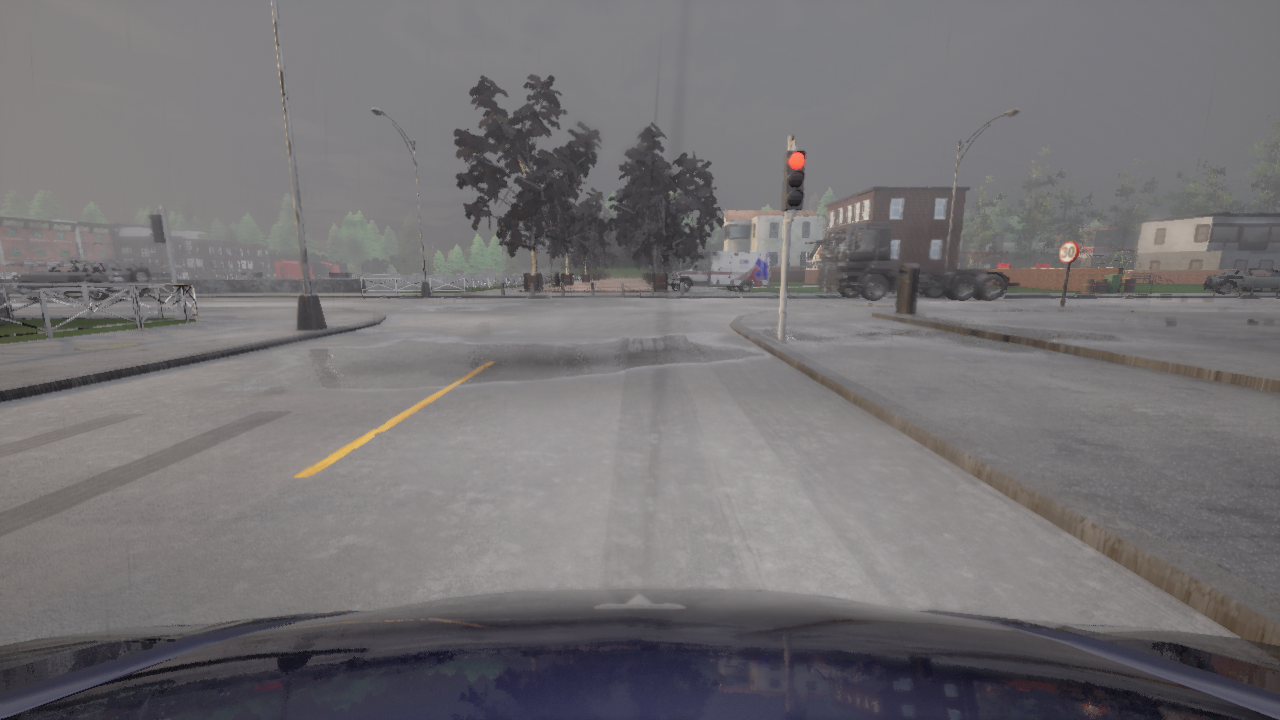cyclist: (0, 588, 1279, 719), (816, 222, 1020, 301), (12, 258, 153, 300), (667, 250, 773, 292), (1204, 268, 1279, 293)
pedestrian: (139, 261, 151, 293)
